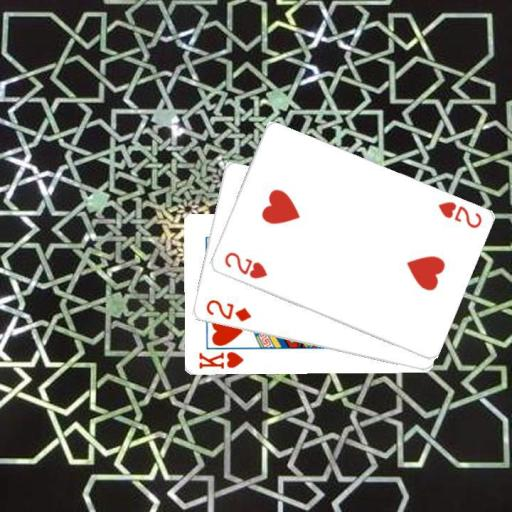2D: (203, 297, 253, 324)
2H: (220, 249, 269, 281), (434, 199, 483, 231)
KH: (196, 349, 245, 371)
